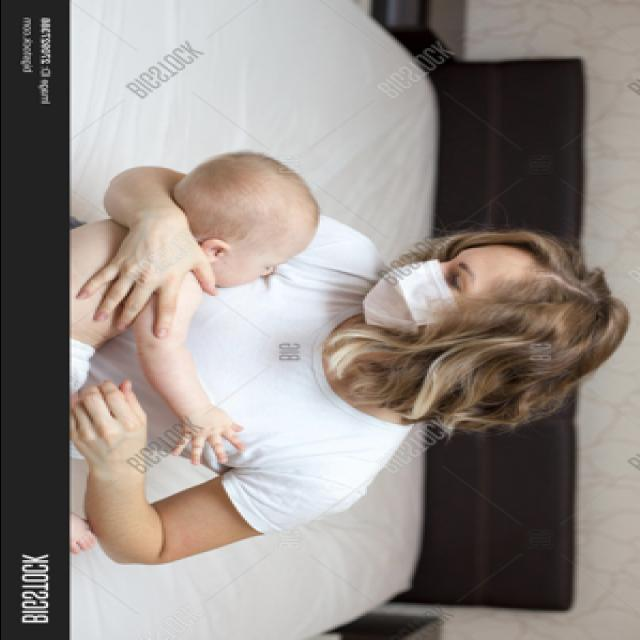with_mask: (362, 256, 484, 341)
